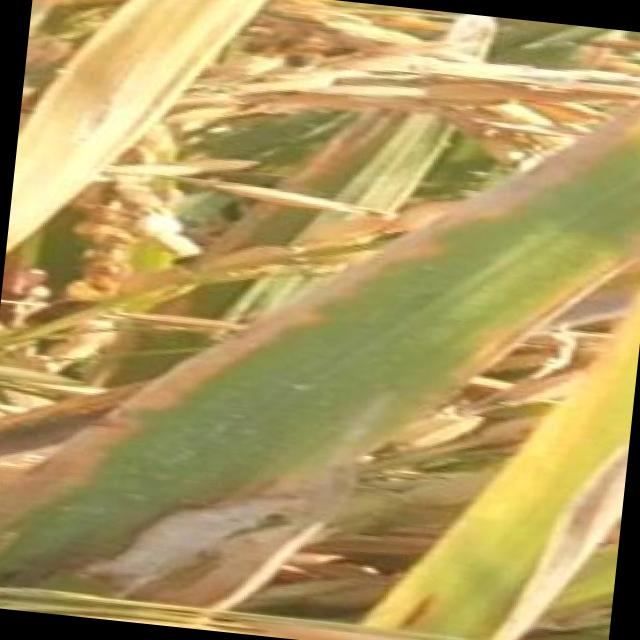Rice_Bacterial_Blight: (418, 131, 604, 352), (472, 419, 627, 640)
